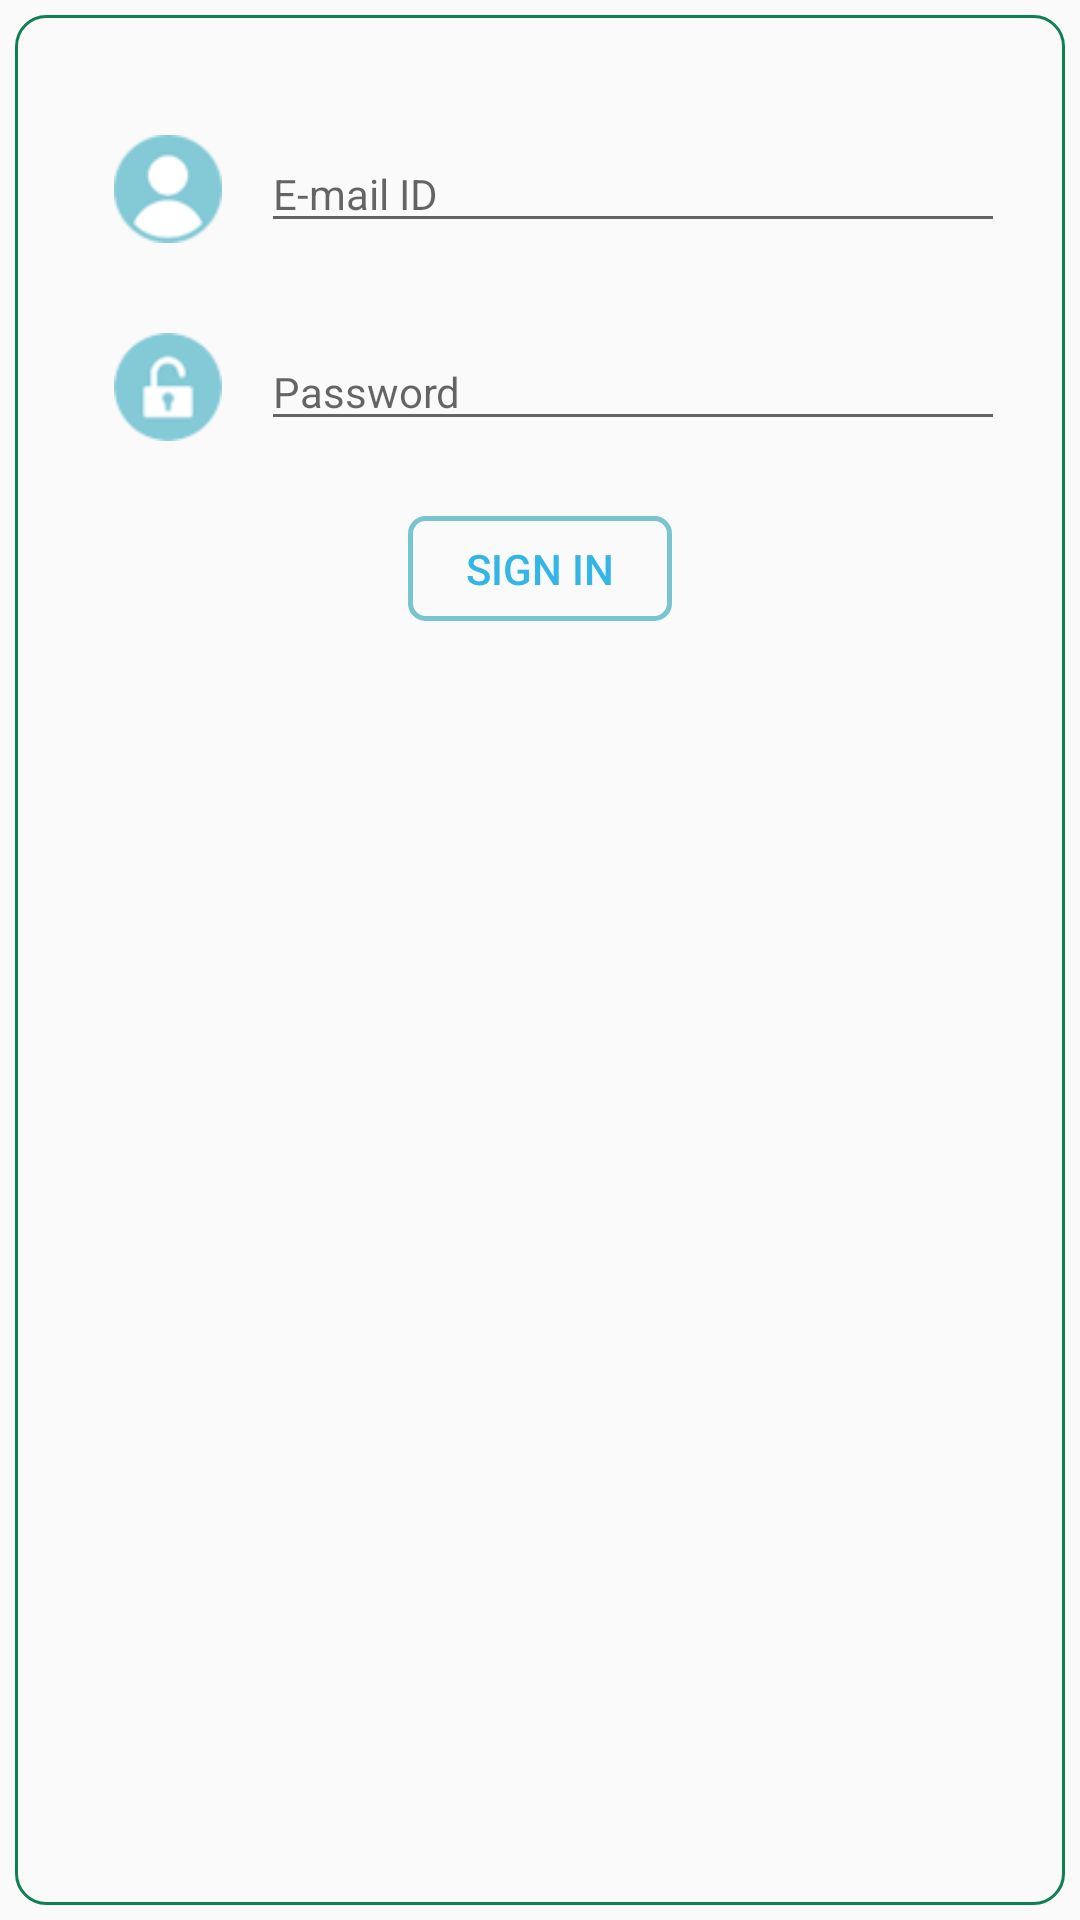

Screen size 1080px x 1920px. Icon name, then its box in pixels as box(x1, y1, x2, y2):
user: box(114, 135, 222, 243)
